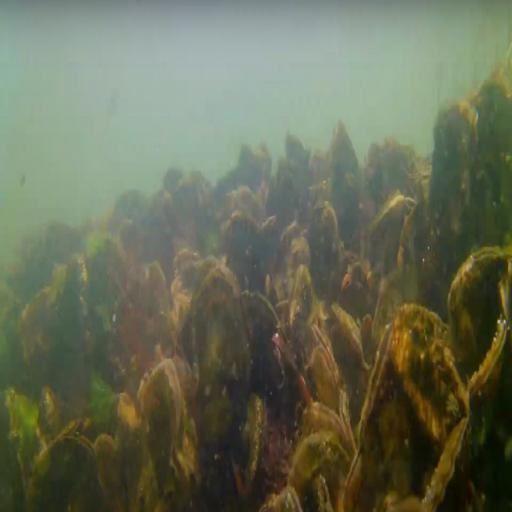Oyster-Closed: (395, 300, 470, 450), (449, 247, 512, 371), (192, 271, 252, 390), (433, 102, 480, 225), (468, 317, 507, 447), (426, 412, 473, 512), (232, 384, 263, 498), (288, 261, 320, 335), (332, 304, 370, 366), (330, 115, 355, 180), (146, 267, 170, 313)
Oyster-Open: (29, 427, 104, 512), (143, 359, 185, 475), (362, 322, 396, 448), (243, 288, 287, 376), (372, 197, 420, 259), (311, 323, 344, 390), (262, 476, 301, 512), (347, 447, 365, 512), (496, 271, 512, 343)
